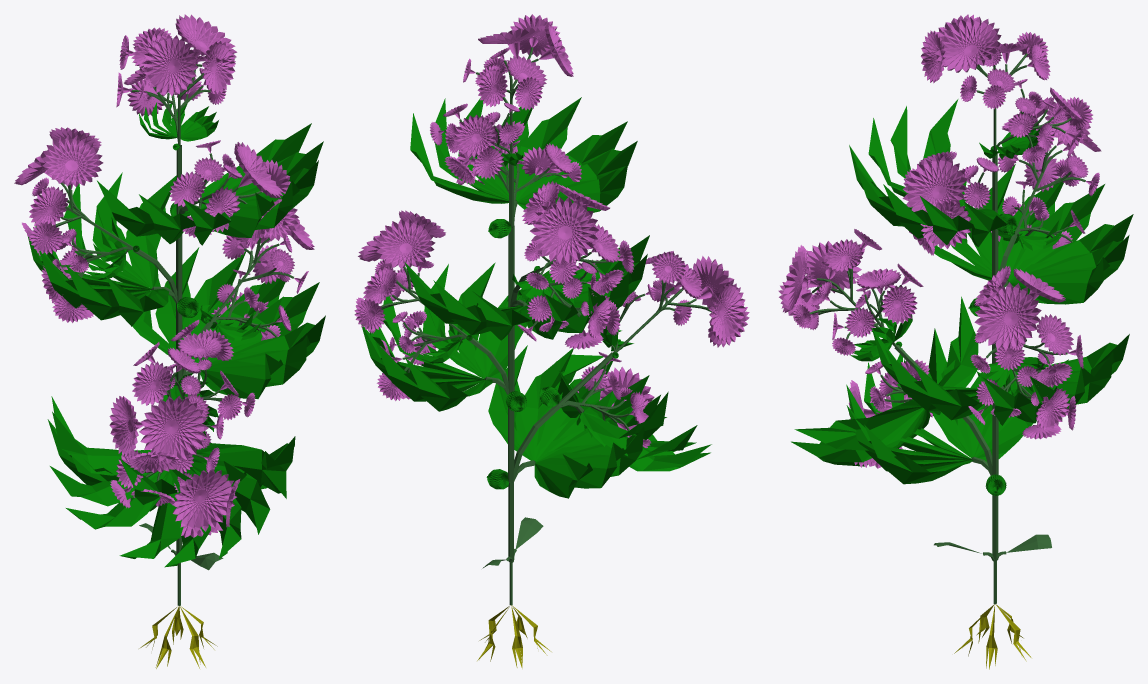
Rendered from plants1.obj.
The picture shows the model from 3 angles, left to right: view 1: azimuth 30°, elevation 25°; view 2: azimuth 150°, elevation 25°; view 3: azimuth 270°, elevation 25°; orthographic projection. The views are drawn at different scales.
Visible parts, largest first — view 1: 1Newplan; view 2: 1Newplan; view 3: 1Newplan.
Boxes of the visible parts, left/top/right/bottom form: 1Newplan: left=14, top=14, right=325, bottom=668; 1Newplan: left=354, top=14, right=749, bottom=668; 1Newplan: left=778, top=14, right=1133, bottom=669.
Size of the model in its own units: 443 by 900 by 458.
